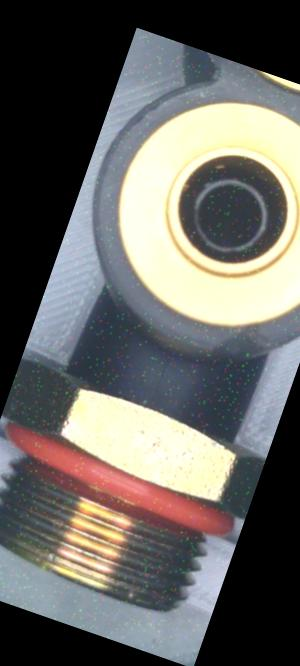joint line: (155, 355, 172, 391)
